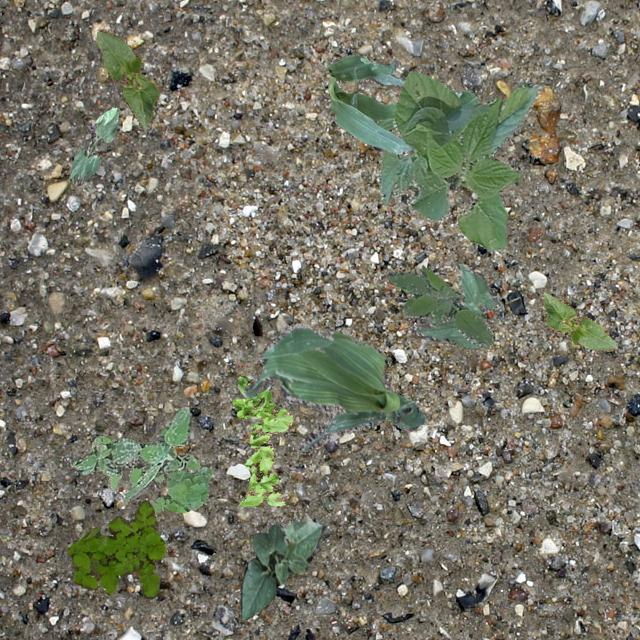crop: (374, 70, 538, 250), (244, 322, 424, 449), (326, 54, 412, 154), (240, 520, 324, 620), (412, 262, 496, 348), (95, 28, 158, 128), (540, 290, 616, 350), (70, 106, 119, 184)
weed: (72, 406, 200, 502), (66, 500, 166, 598), (89, 436, 211, 512), (387, 264, 492, 346), (232, 376, 292, 506)
